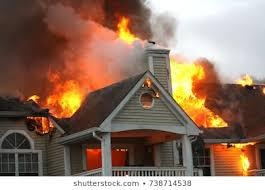fire: (24, 67, 100, 130), (170, 54, 227, 129), (112, 15, 147, 44), (234, 73, 264, 91)
